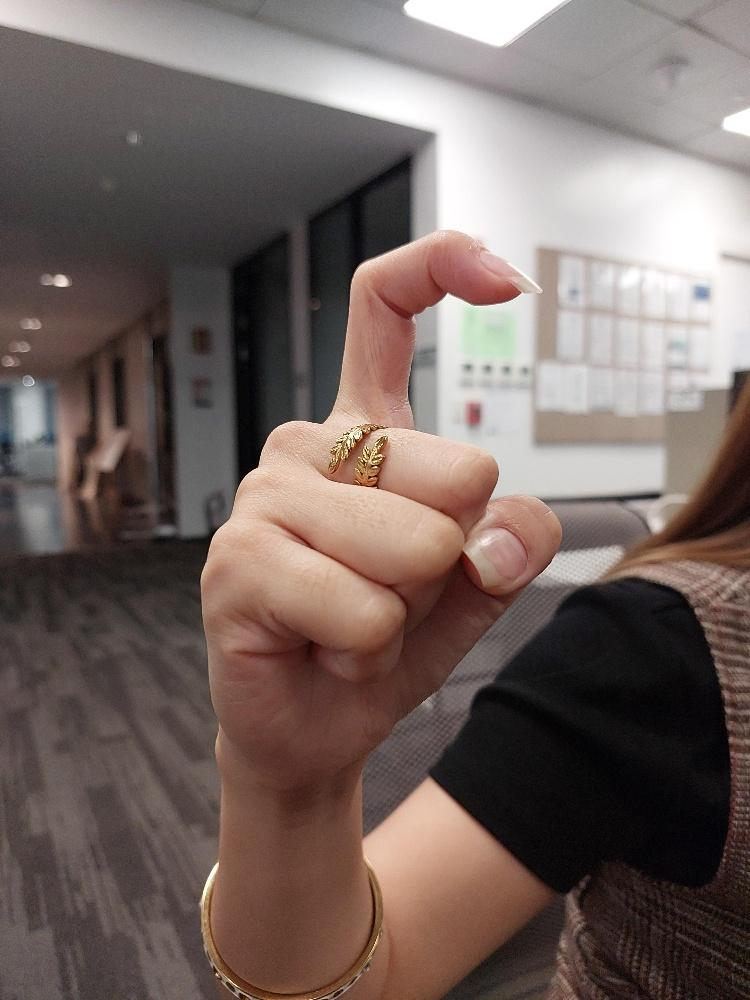x: (195, 224, 566, 791)
